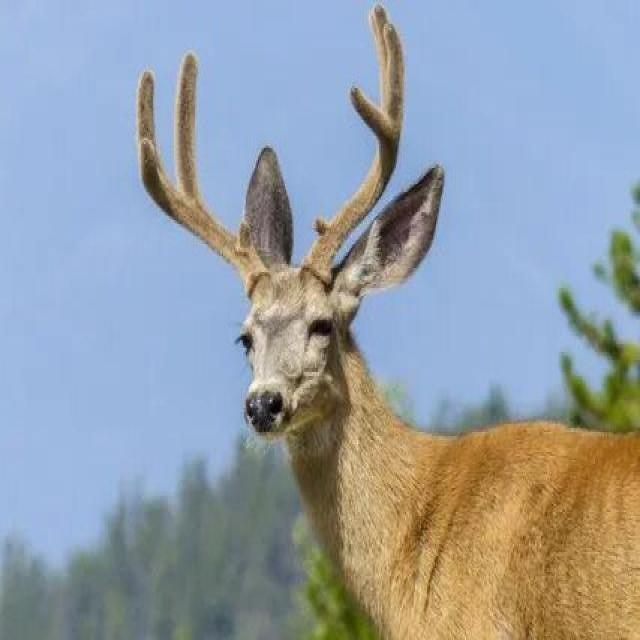deer: (201, 186, 554, 549)
